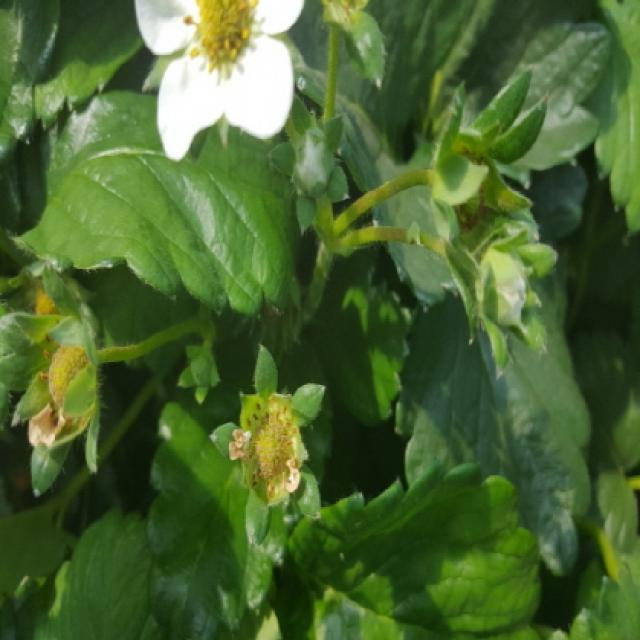Blossom Blight: (222, 400, 302, 507)
